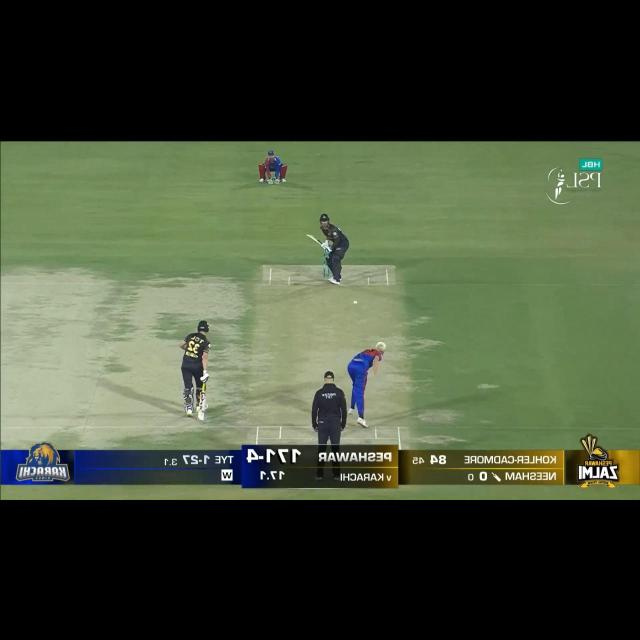bat: (198, 394, 206, 424), (305, 233, 322, 246)
toe: (197, 414, 206, 422), (304, 234, 312, 238)
